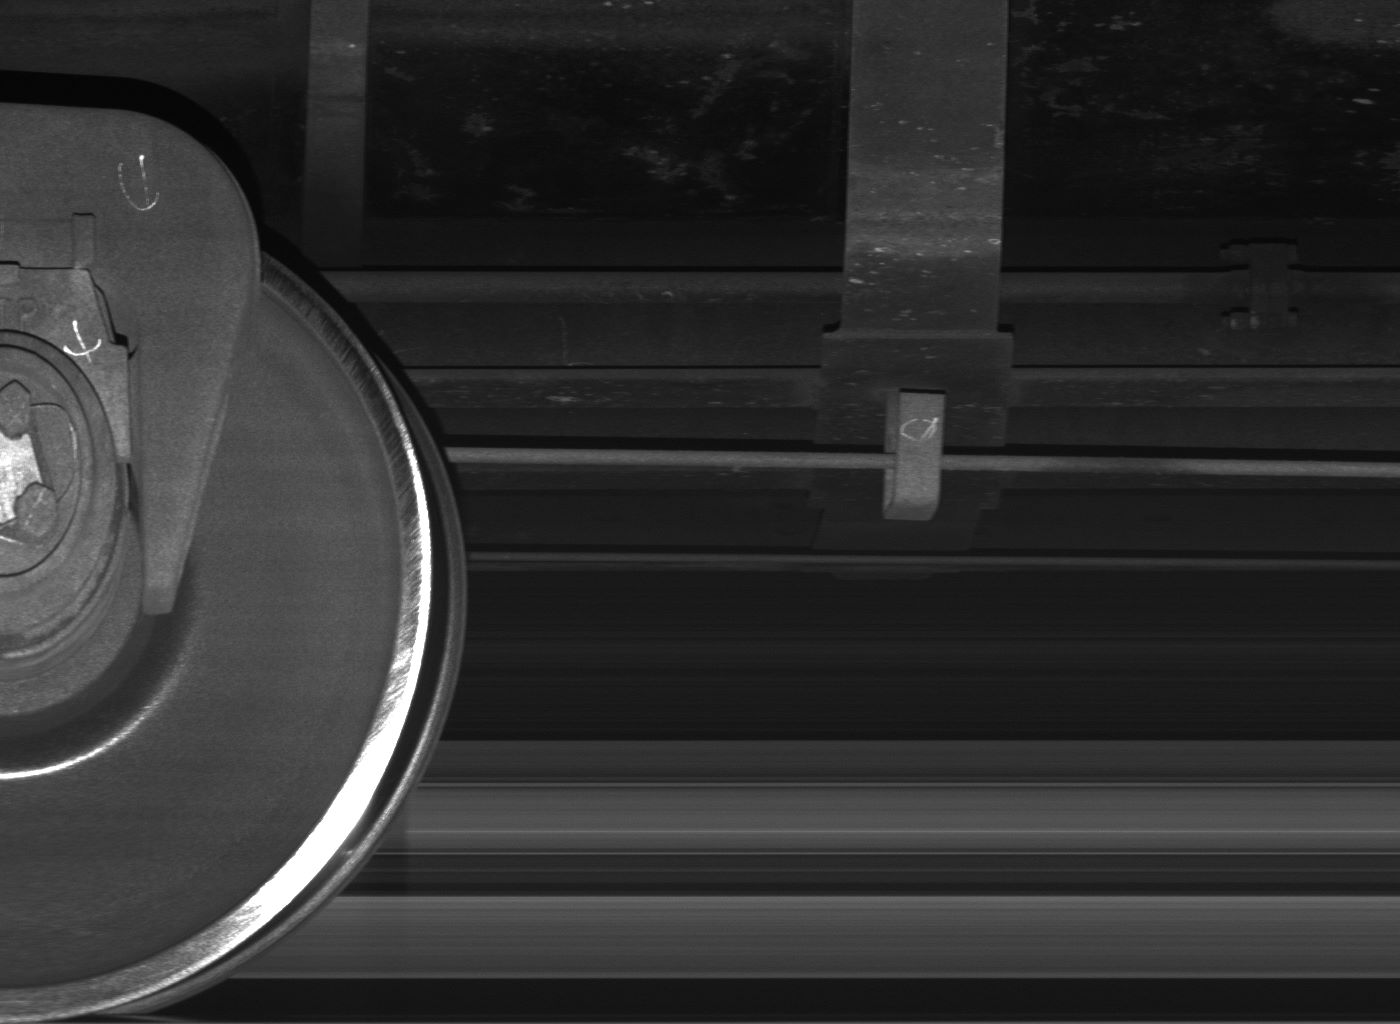normal: (882, 391, 946, 520)
